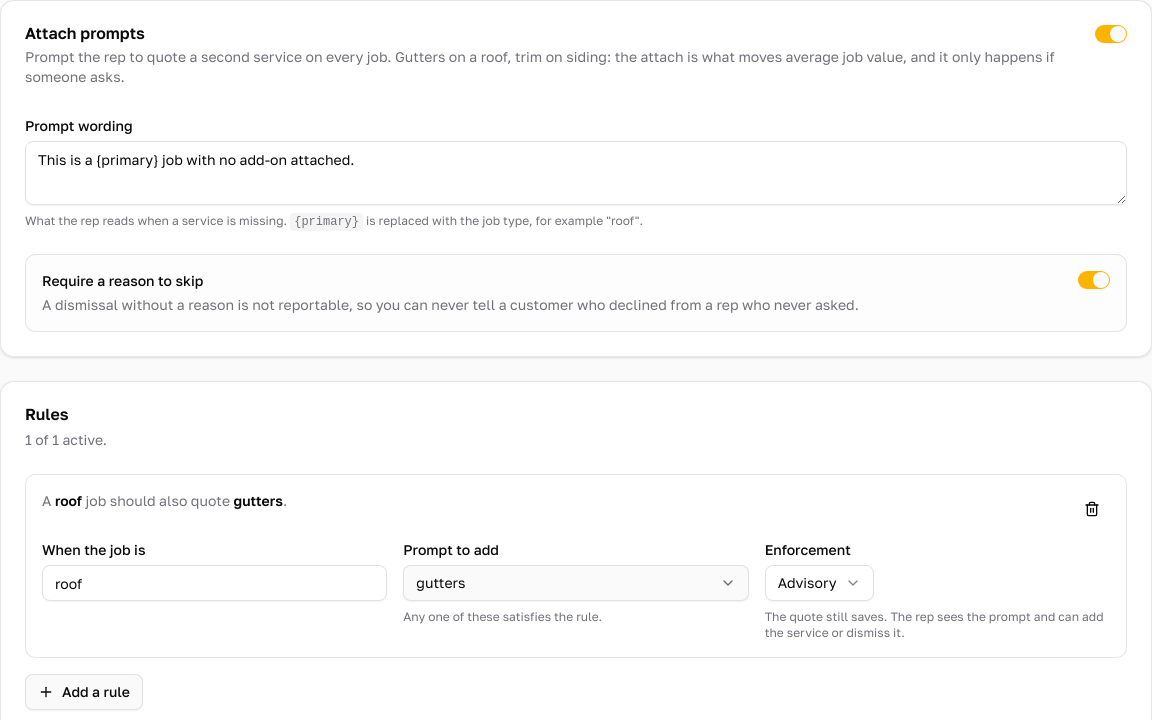
Test: AttachRulesSettingsTab › warns that rules do nothing while the master switch is off
What coordinates should you click on to do the following:
click the switch named "prompt for attachable services"
I would click on:
 (1111, 34)
Its box is [1095,25,1127,43].
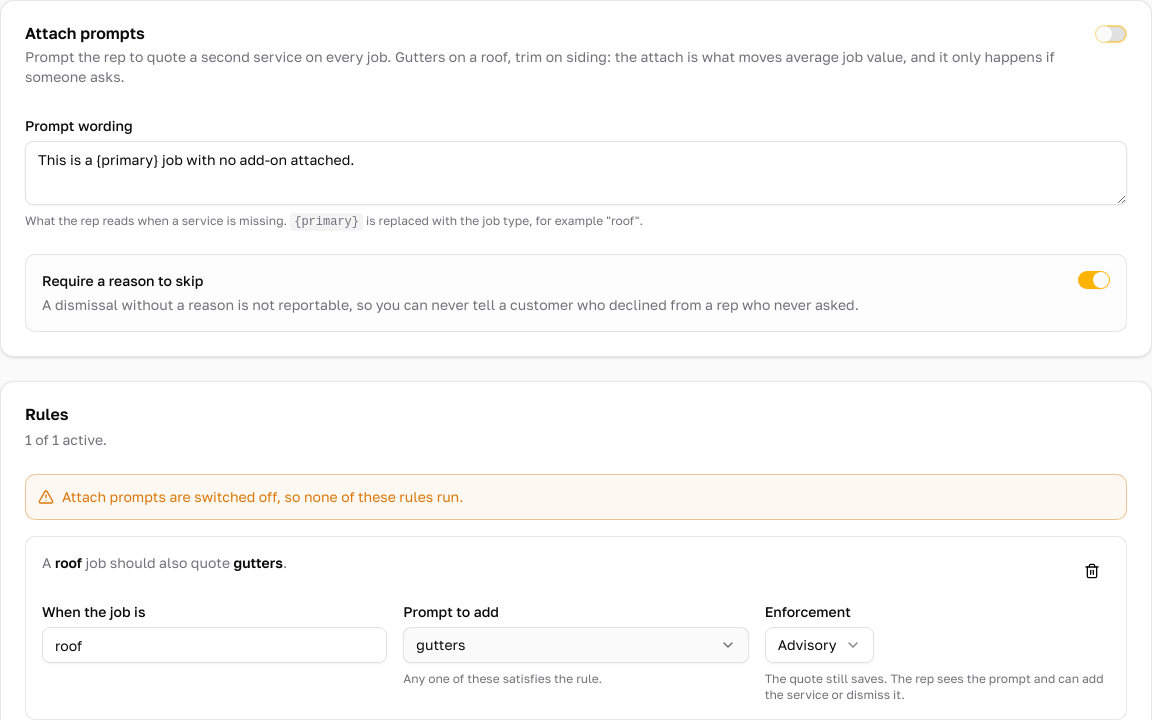
expect the text "Attach prompts are switched off, so none of these rules run." is shown: met, box [25,474,1127,520]
